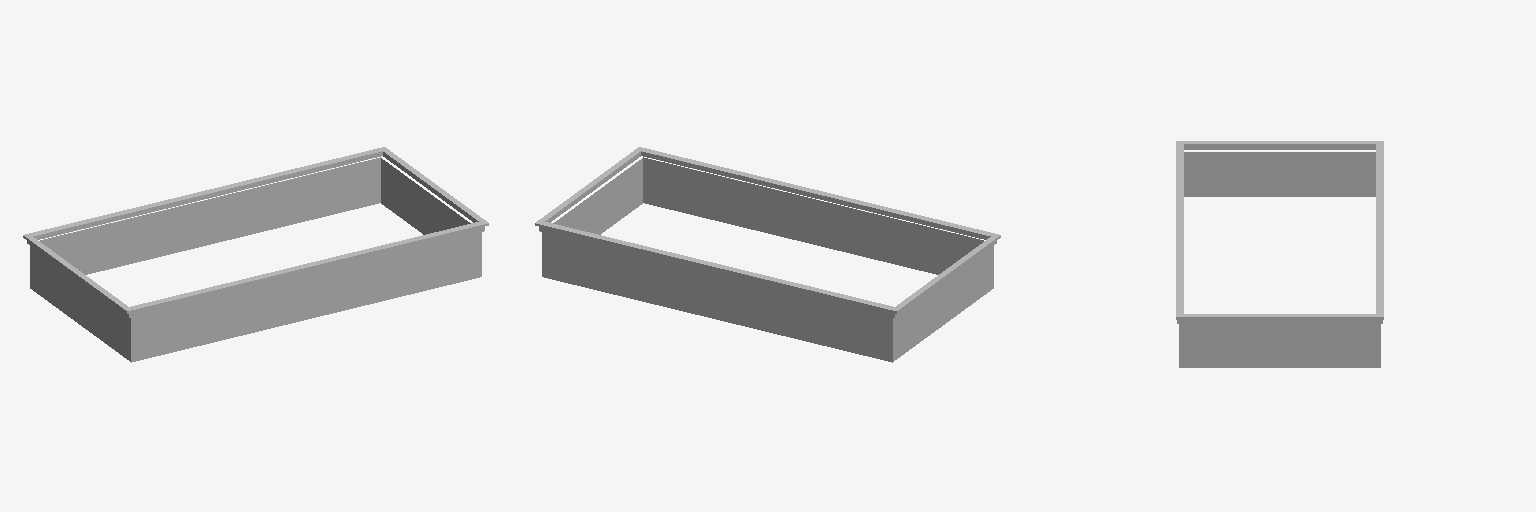
File: city_tienda_armas5.obj
3 views of the same model, side by side, from view 1: azimuth 30°, elevation 25°; view 2: azimuth 150°, elevation 25°; view 3: azimuth 270°, elevation 25° (orthographic).
Visible parts, largest first — view 1: pCube30; view 2: pCube30; view 3: pCube30.
Boxes of the visible parts, box(x1,y1,x2,y2) form: pCube30: box(23, 147, 488, 362); pCube30: box(535, 147, 1000, 362); pCube30: box(1176, 141, 1383, 367).
Size of the model in its own units: 24.81 by 3.52 by 12.4.